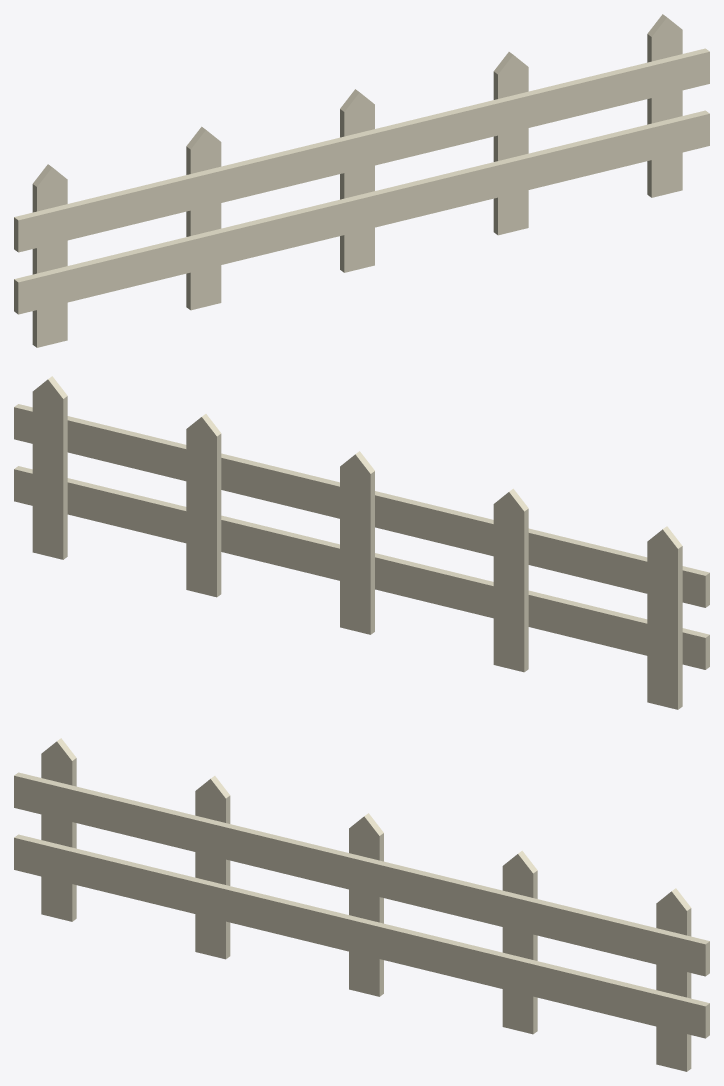
File: fence.glb
3 views of the same model, one above another, from view 1: azimuth 30°, elevation 25°; view 2: azimuth 150°, elevation 25°; view 3: azimuth 330°, elevation 25° (orthographic).
Visible parts, largest first — view 1: fence; view 2: fence; view 3: fence.
Part boxes in pixels (x1=…): fence: x1=14, y1=14, x2=709, y2=347; fence: x1=14, y1=376, x2=709, y2=709; fence: x1=14, y1=738, x2=709, y2=1071.
Bounding box in the file's own units: 4.5 × 1.1 × 0.1.
